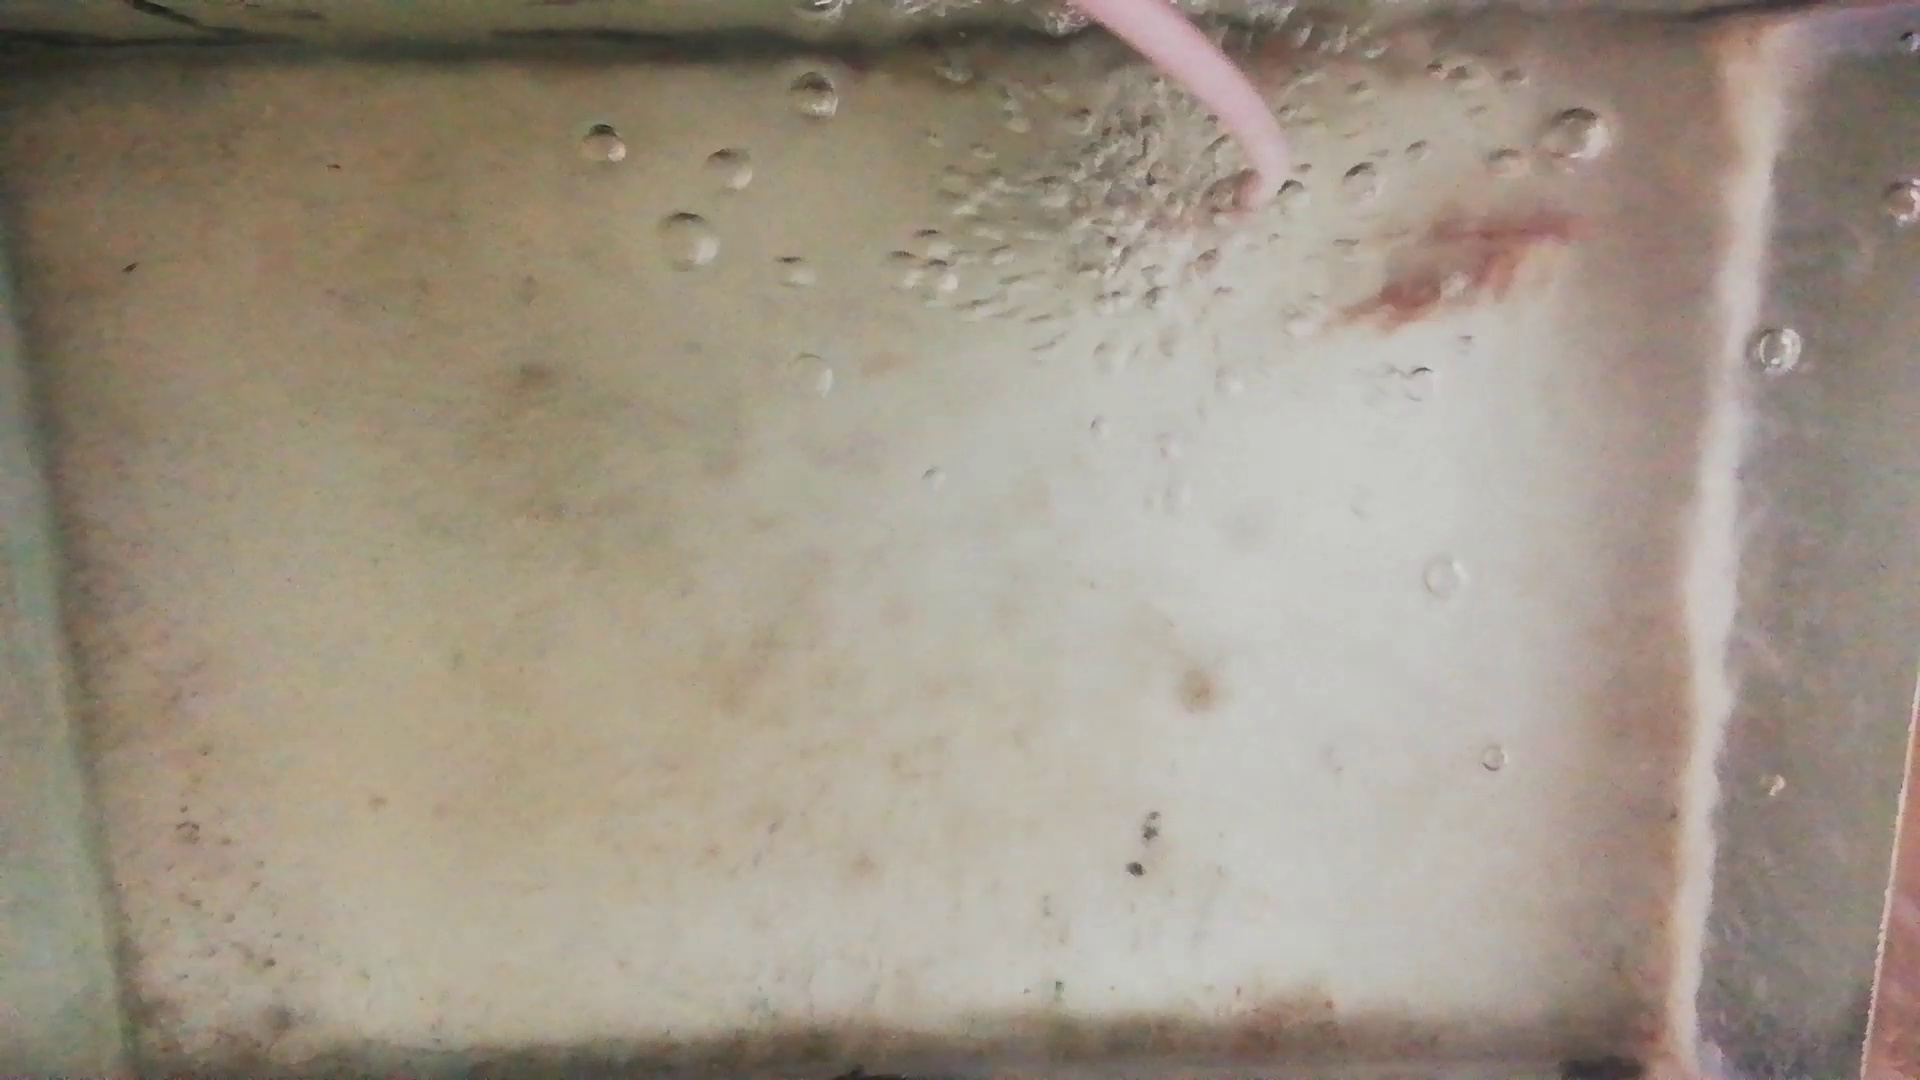fish: (1325, 251, 1527, 327), (1396, 211, 1586, 247)
